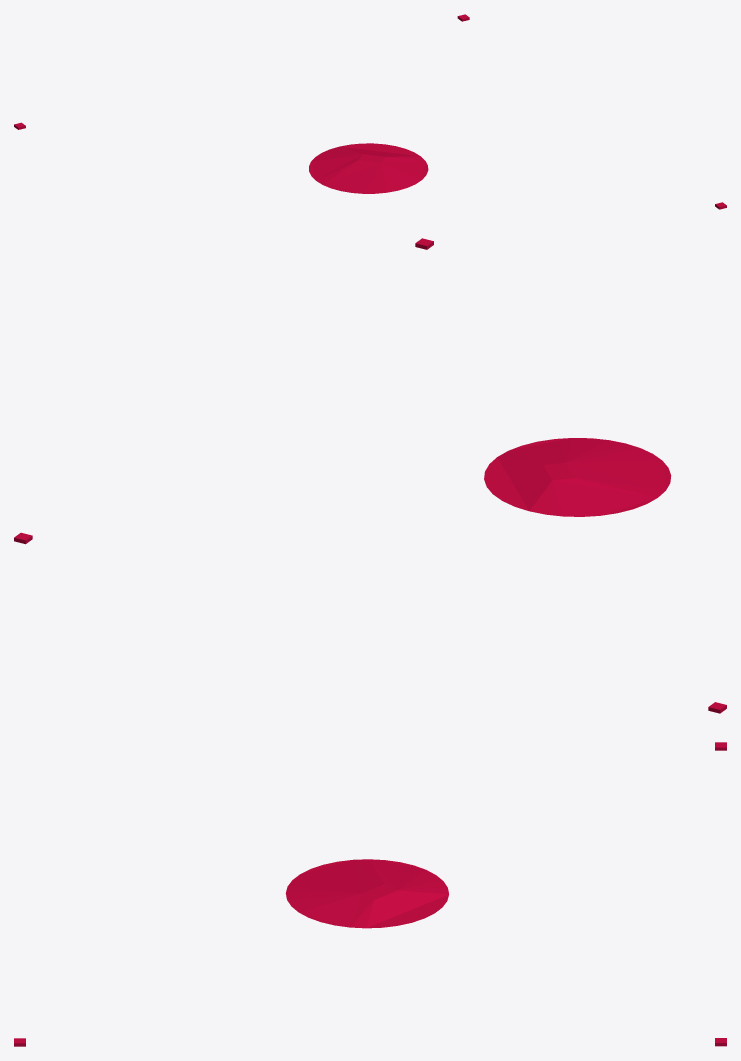
Rendered from piso.obj.
3 views of the same model, one above another, from view 1: azimuth 30°, elevation 25°; view 2: azimuth 150°, elevation 25°; view 3: azimuth 270°, elevation 25° (orthographic). The views are drawn at different scales.
Visible parts, largest first — view 1: Plane.001; view 2: Plane.001; view 3: Plane.001.
Boxes of the visible parts, left/top/right/bottom form: Plane.001: left=309, top=143, right=428, bottom=193; Plane.001: left=484, top=438, right=671, bottom=516; Plane.001: left=285, top=859, right=448, bottom=928.
Size of what is drawn, in the model's own units: 23.9 by 0.264 by 23.94.
